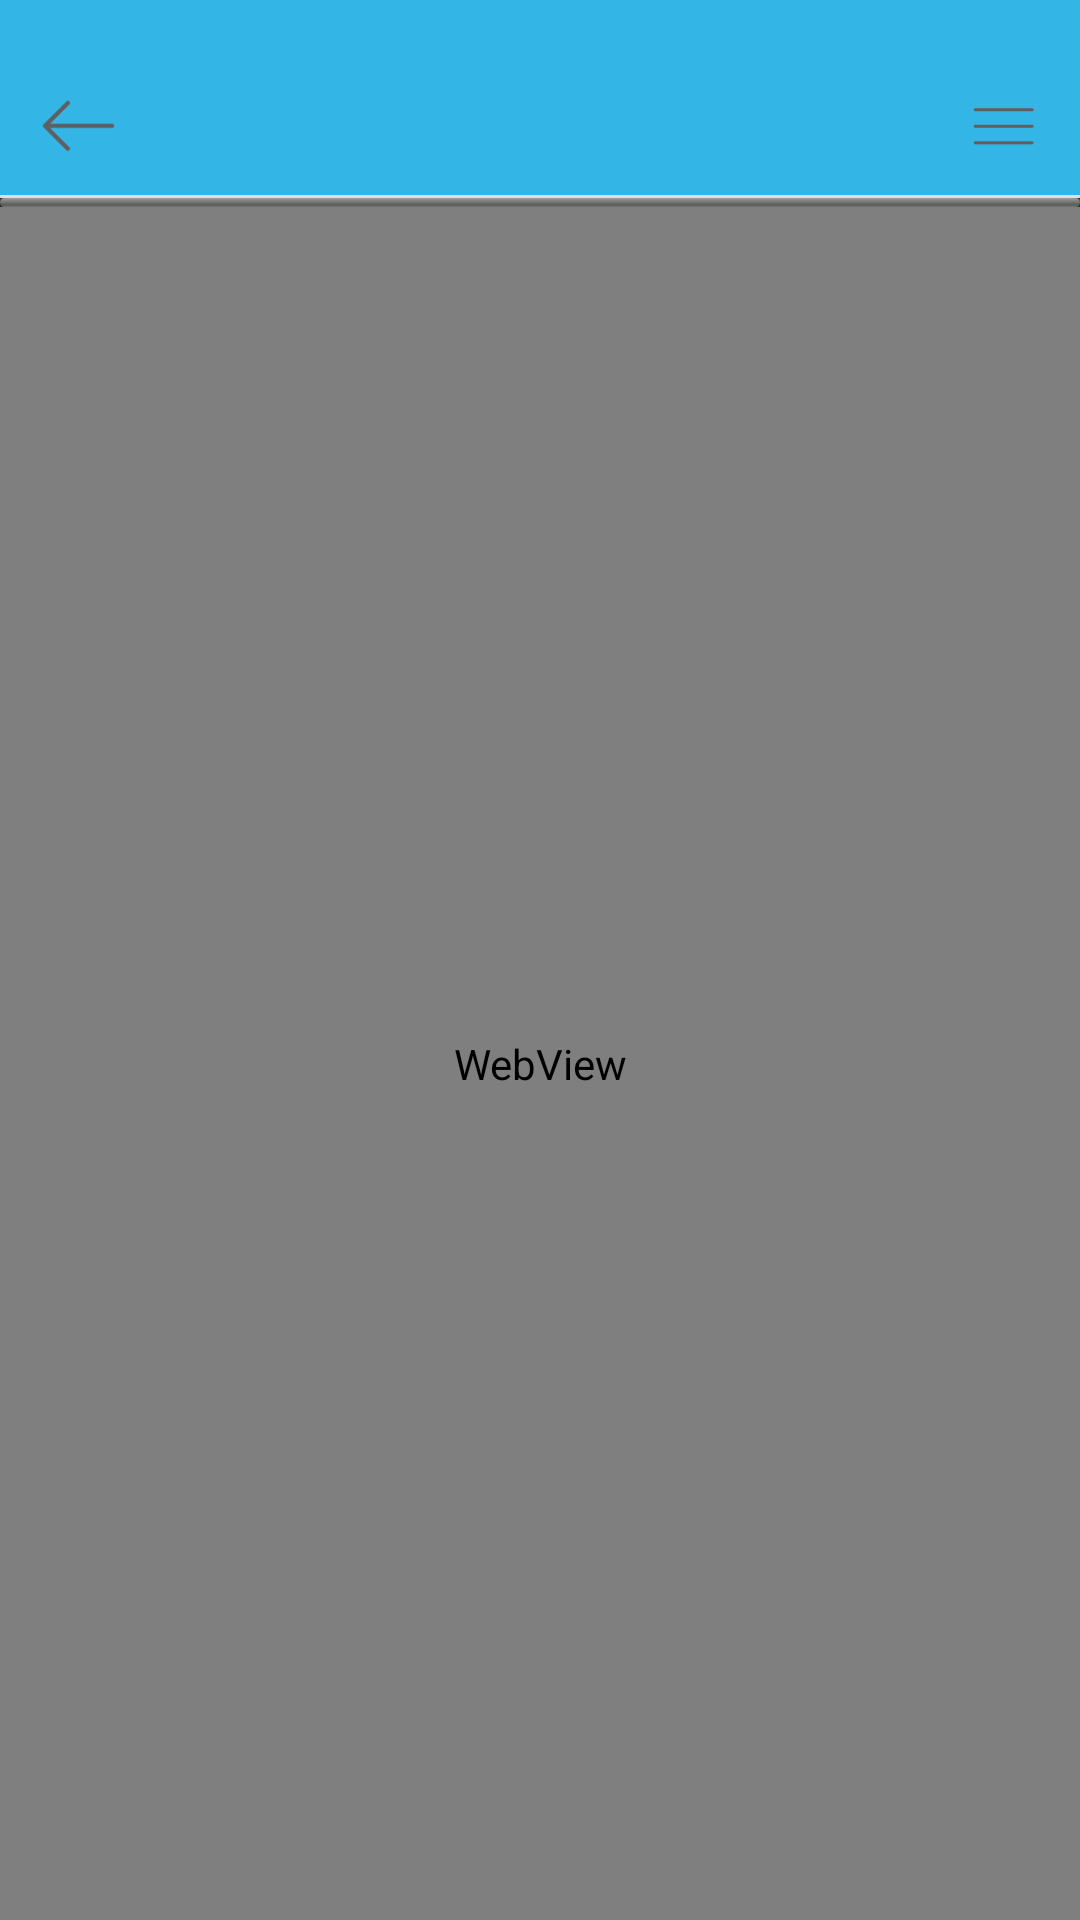

Screen size 1080*1920. Icon name, then its box in pixels as (x1, y1, x2, y2):
menu: (973, 108, 1034, 145)
